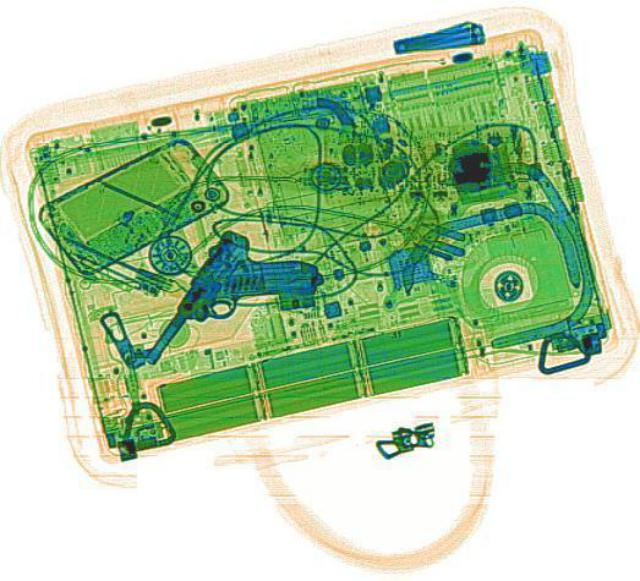Gun: (138, 226, 326, 407)
